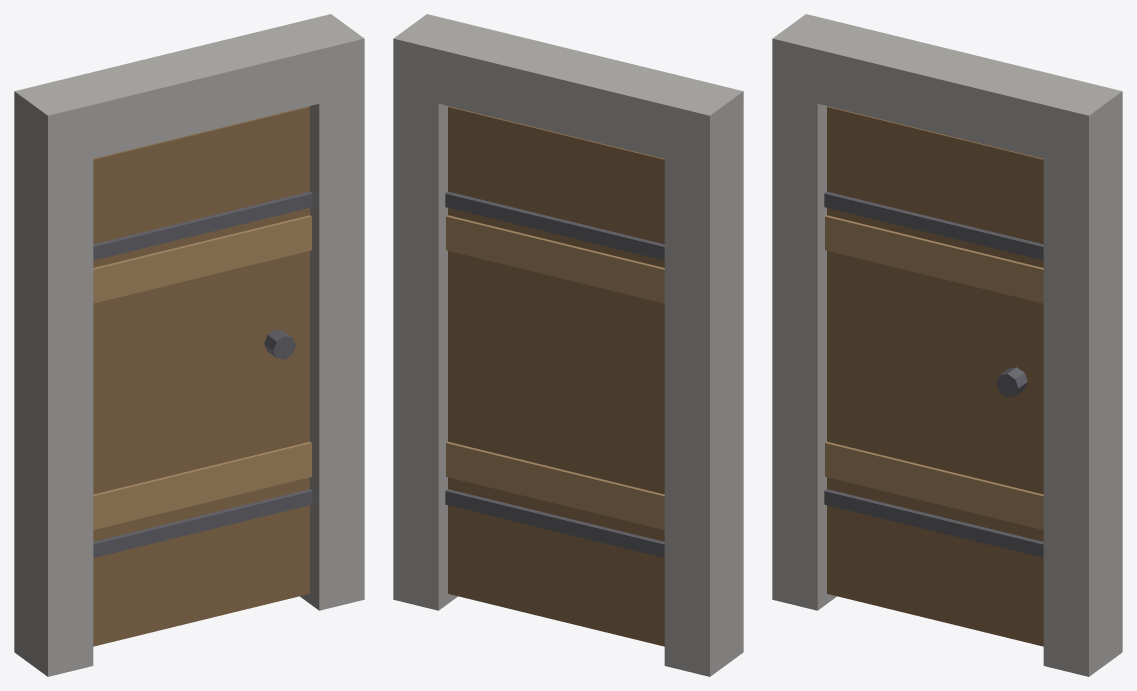
File: prop_door.glb
The picture shows the model from 3 angles, left to right: view 1: azimuth 30°, elevation 25°; view 2: azimuth 150°, elevation 25°; view 3: azimuth 330°, elevation 25°; orthographic projection.
Parts seen in each view (by area): view 1: prop_door; view 2: prop_door; view 3: prop_door.
Part boxes in pixels (x1=…): prop_door: x1=14, y1=14, x2=364, y2=676; prop_door: x1=393, y1=14, x2=743, y2=676; prop_door: x1=772, y1=14, x2=1122, y2=676.
Size of the model in its own units: 0.98 by 1.66 by 0.185.
